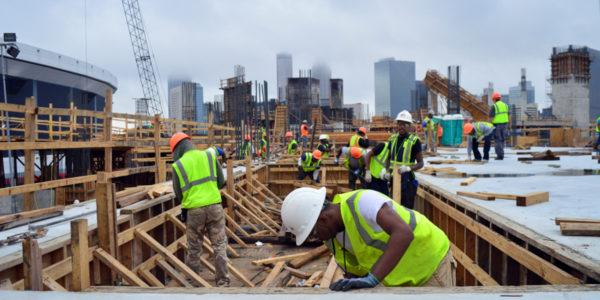helmet: (283, 188, 331, 246), (171, 132, 192, 149), (397, 112, 414, 124), (351, 147, 362, 160), (464, 124, 475, 135), (313, 150, 323, 161), (492, 93, 503, 101), (427, 110, 437, 118), (359, 127, 368, 135), (322, 135, 331, 142), (303, 120, 310, 125)
